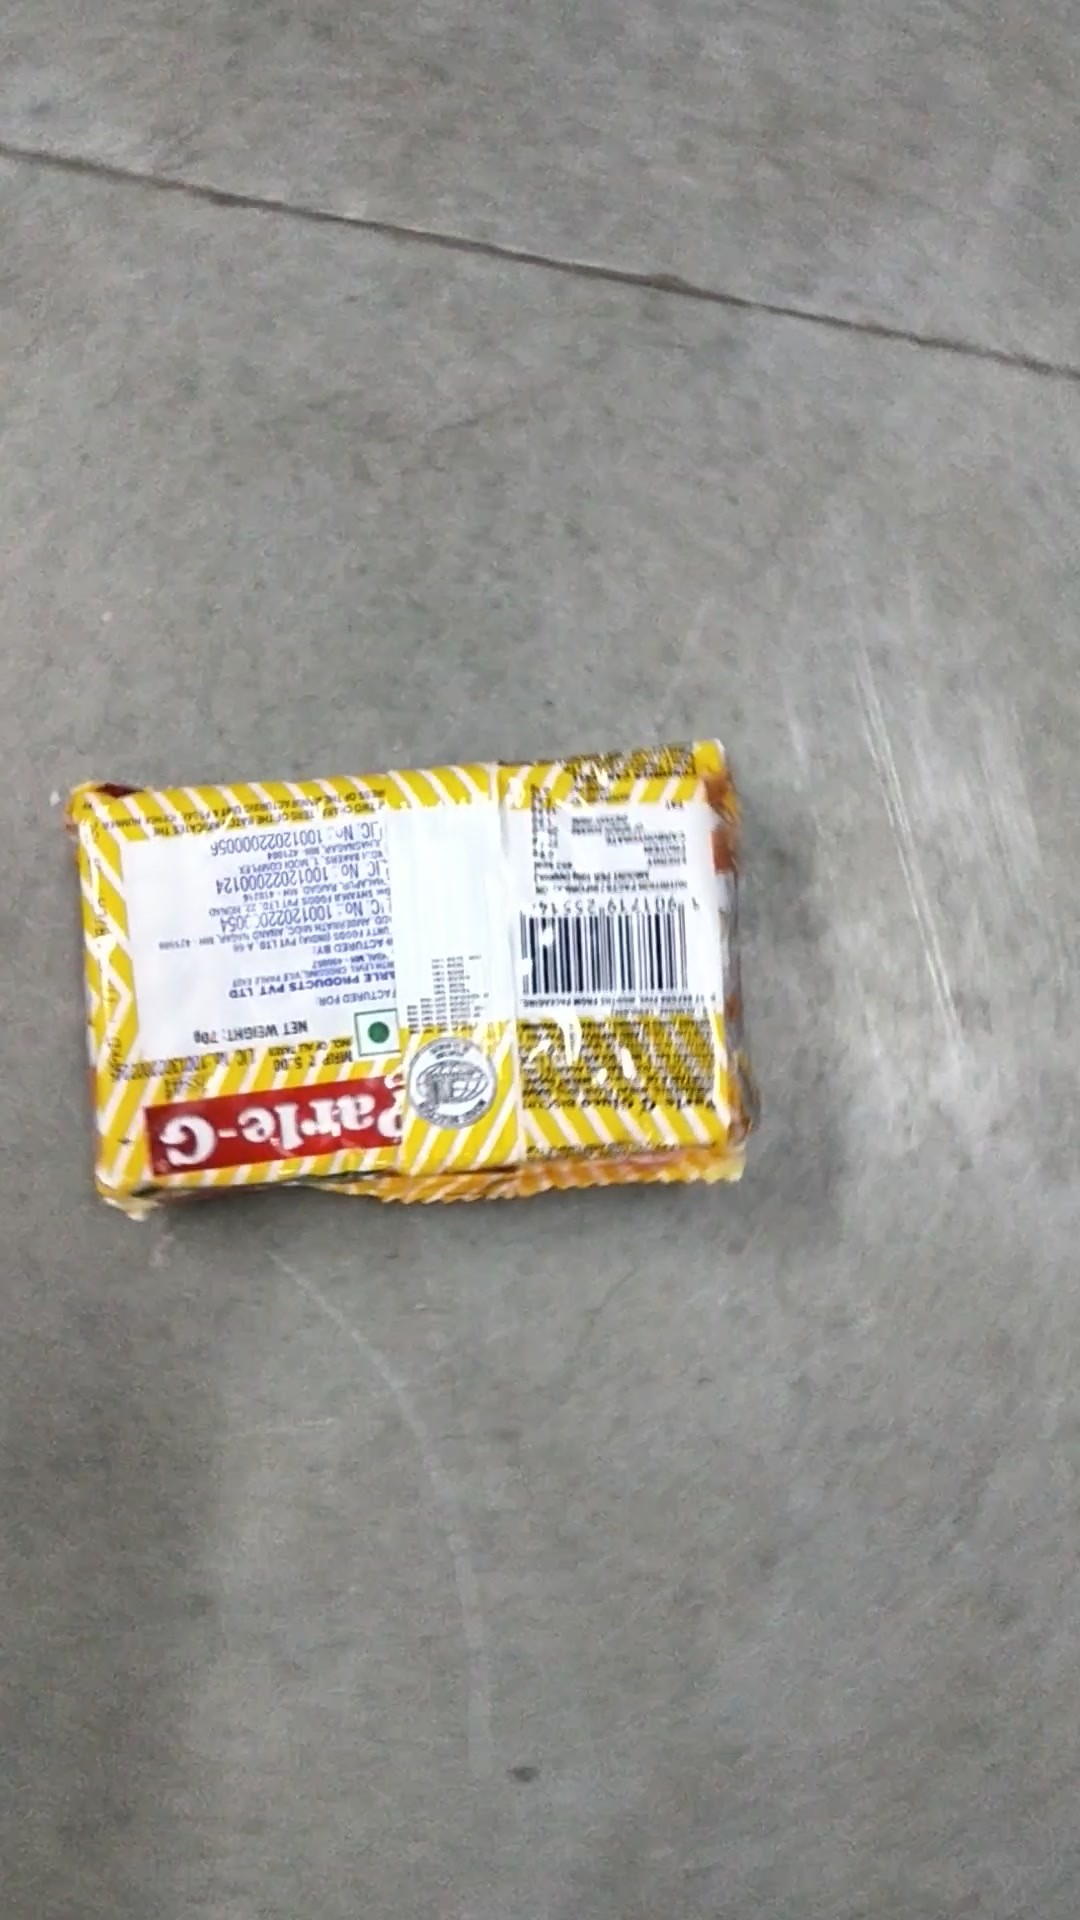parle-g-b: (86, 789, 717, 1139)
